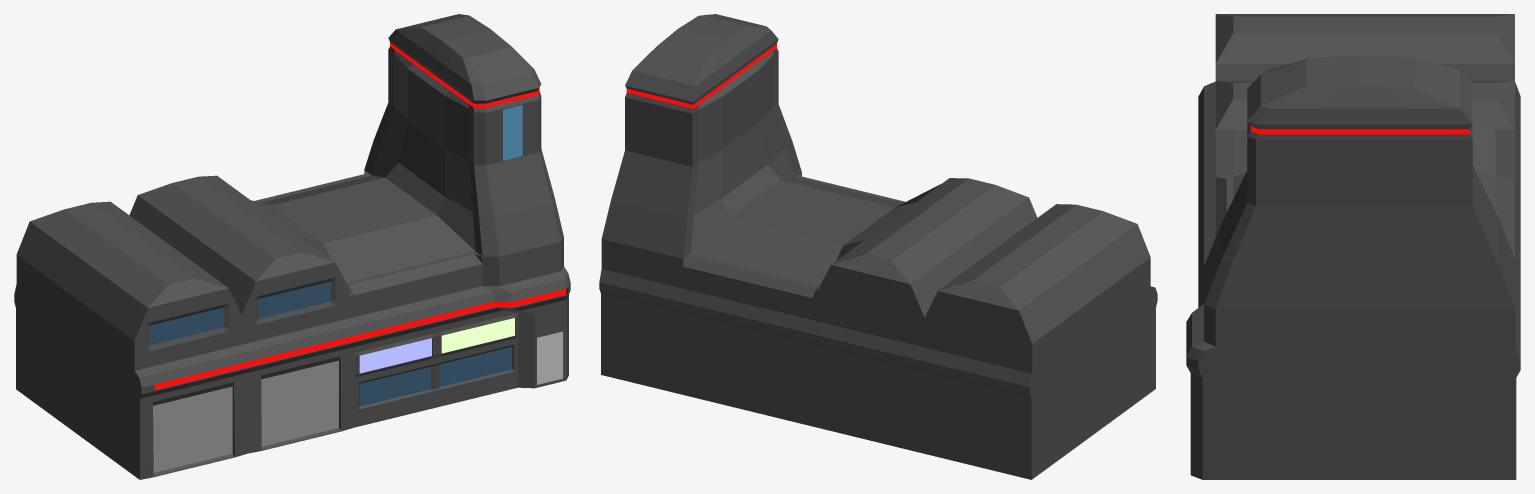
File: TestUsine.fbx
The picture shows the model from 3 angles, left to right: view 1: azimuth 30°, elevation 25°; view 2: azimuth 150°, elevation 25°; view 3: azimuth 270°, elevation 25°; orthographic projection. The views are drawn at different scales.
Parts seen in each view (by area): view 1: Cube; view 2: Cube; view 3: Cube.
Part boxes in pixels (left/top/right/bottom): Cube: left=14, top=14, right=570, bottom=479; Cube: left=599, top=14, right=1157, bottom=479; Cube: left=1186, top=14, right=1520, bottom=479.
Size of the model in its own units: 2000 by 1354 by 1066.
